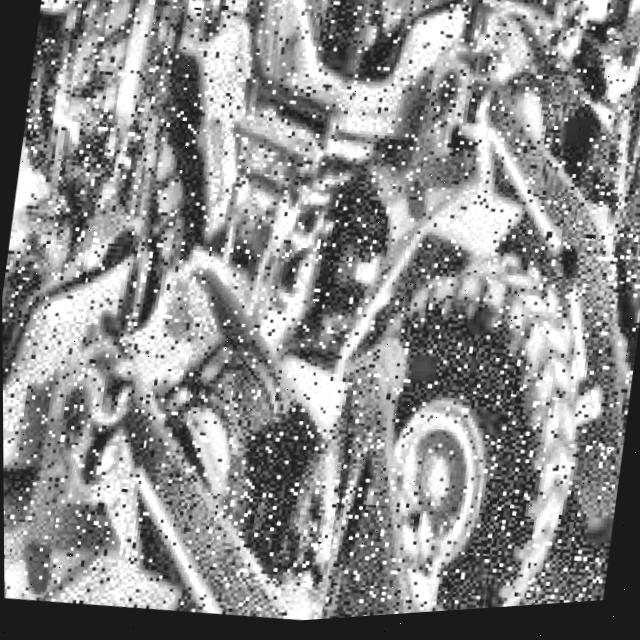buldozerpayloadergrader: (0, 0, 618, 640)
